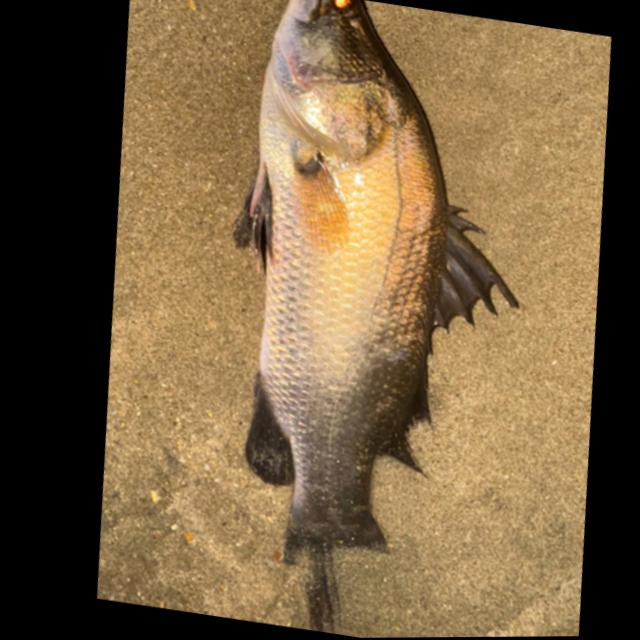Seabass: (147, 0, 599, 639)
